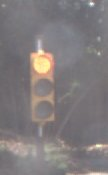Red: (26, 47, 61, 133)
